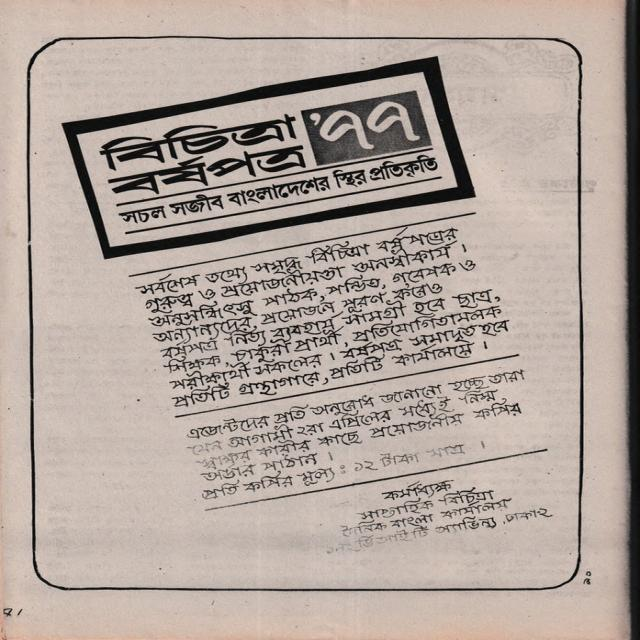advertisement: (30, 36, 582, 589)
page number: (583, 570, 594, 585)
